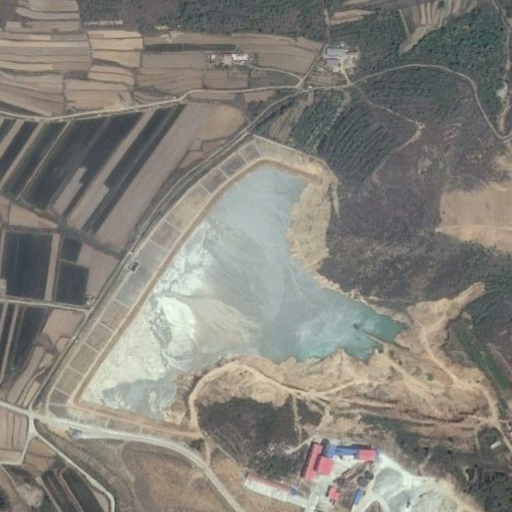tp: (42, 134, 409, 440)
